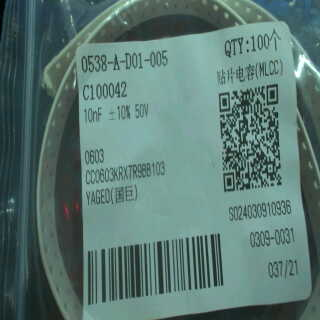10nF: (79, 104, 106, 126)
